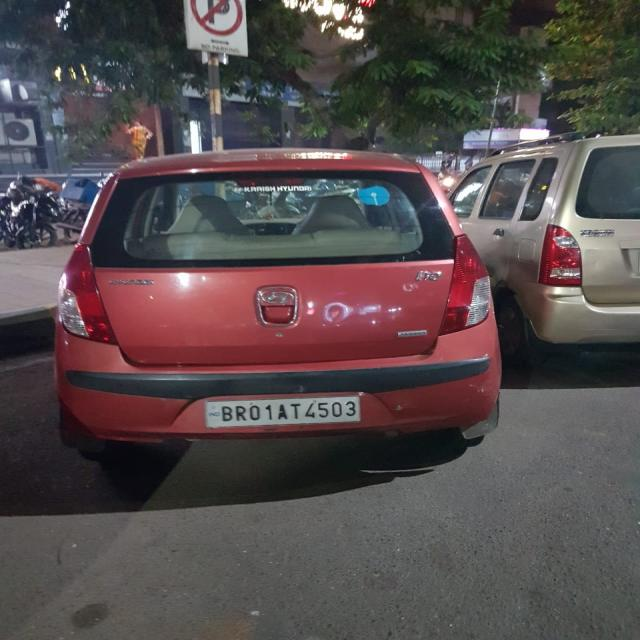Number-Plate: (207, 397, 358, 426)
